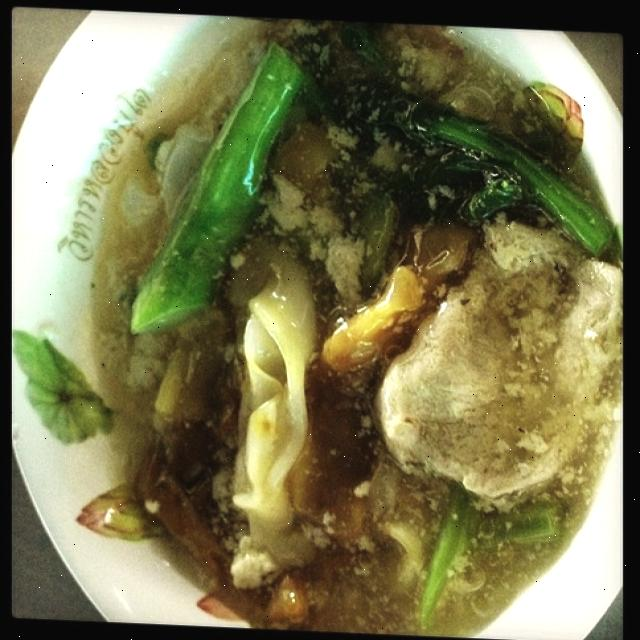面条主食: (58, 15, 608, 620)
